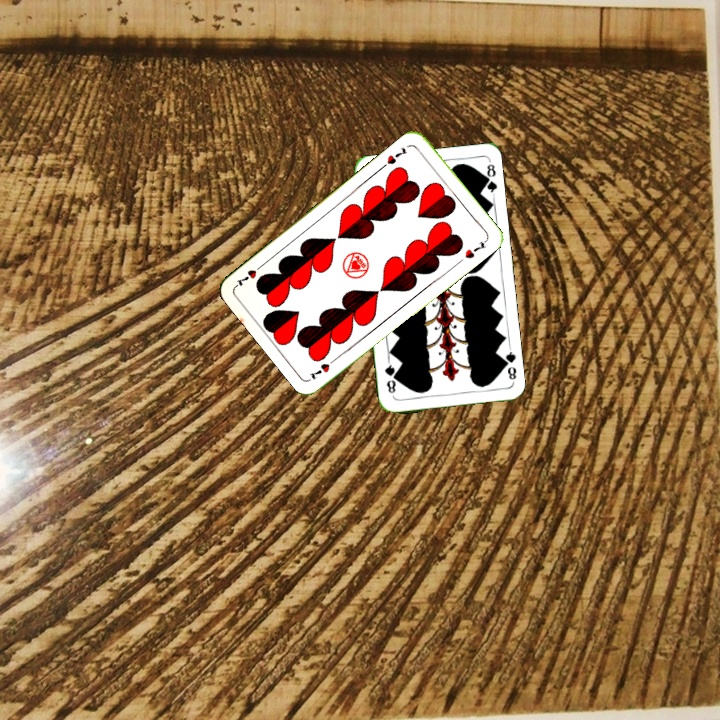G8: (498, 345, 519, 382)
H7: (305, 353, 341, 382), (383, 143, 410, 167)
